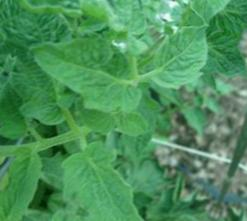Tomato leaf mosaic virus: (13, 13, 159, 128), (41, 127, 198, 221), (138, 13, 219, 106), (0, 135, 53, 195), (14, 86, 73, 136), (96, 0, 158, 41), (107, 107, 149, 141)
